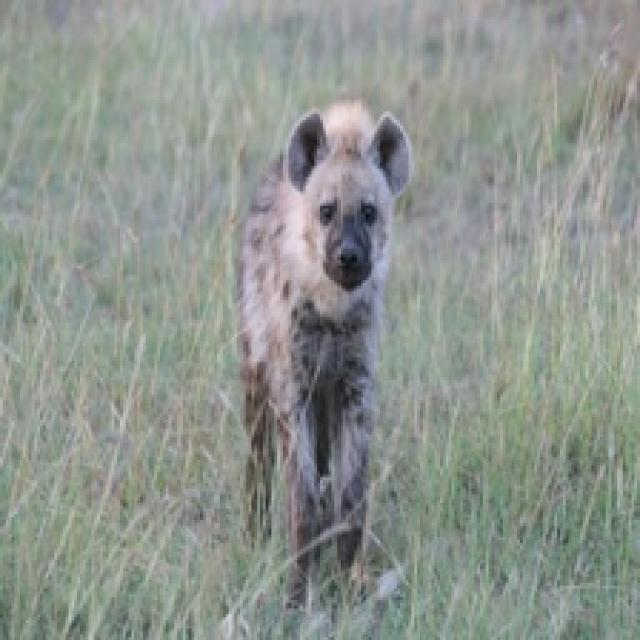hyena: (240, 72, 433, 628)
